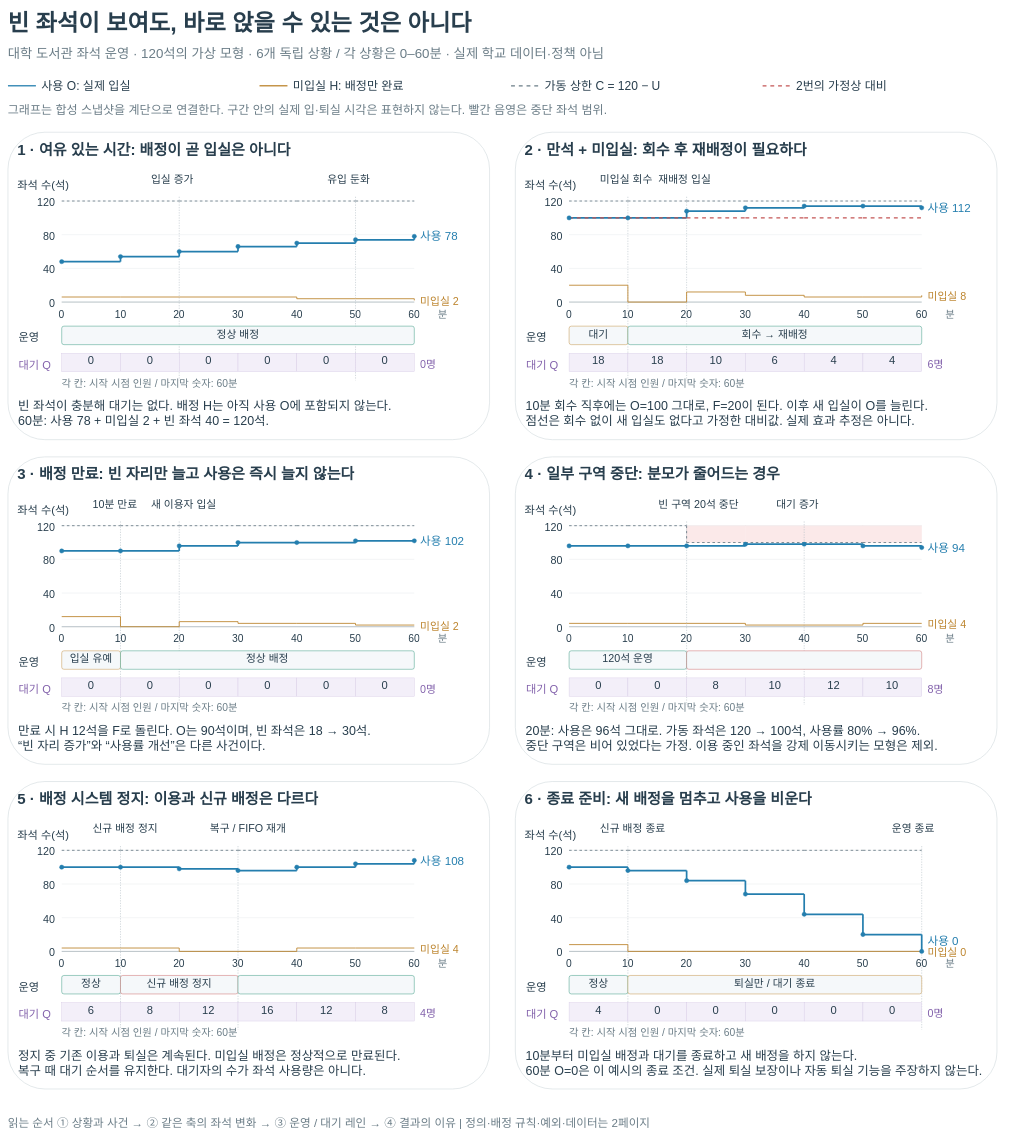
Some shapes in this 1012 by 1141 pixel diagram are drawn without their labels. The shapes that lost their labels are listed below. From the top down, each one's centre as x and y in pixels, then its label:
(804,659): 100석 운영
(326,984): 복구
